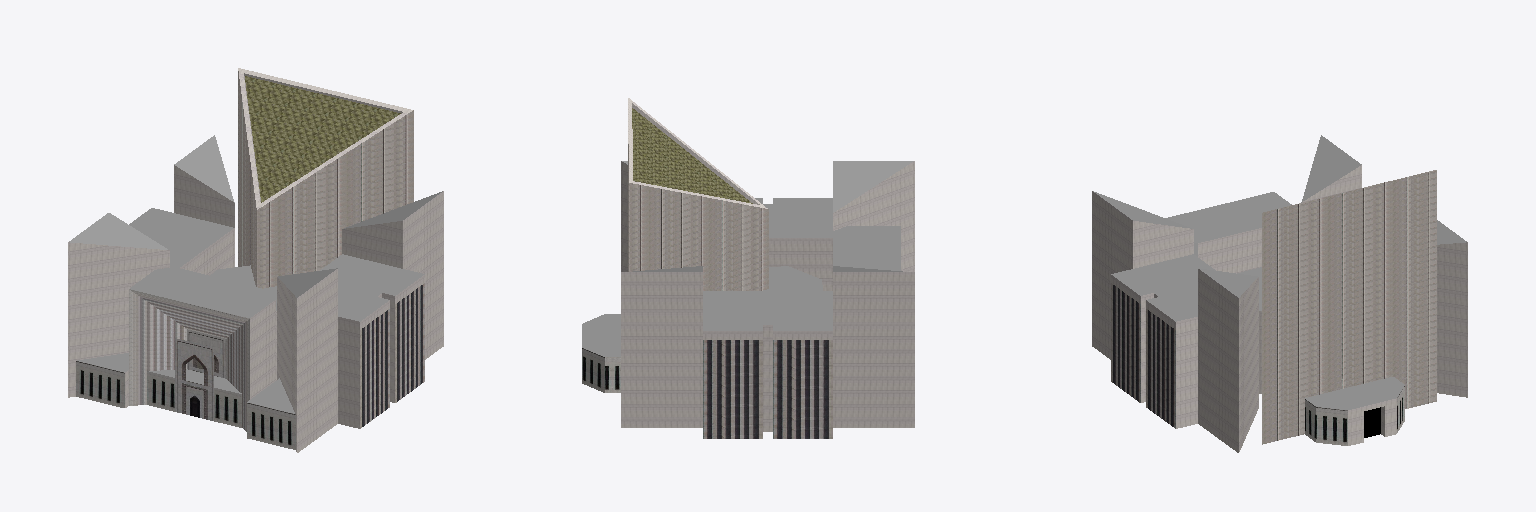
3 views of the same model, side by side, from view 1: azimuth 30°, elevation 25°; view 2: azimuth 150°, elevation 25°; view 3: azimuth 270°, elevation 25° (orthographic).
Visible parts, largest first — view 1: Mesh11 Component_6_1 Component_7_1 Model, Mesh4 Component_3_1 Component_7_1 Model, Mesh9 Component_2_2 Component_7_1 Model, Mesh6 Component_1_2 Component_7_1 Model, Mesh1 Component_1_1 Component_7_1 Model, Mesh7 Component_1_3 Component_7_1 Model, Mesh5 Component_2_1 Component_7_1 Model, Mesh10 Component_1_4 Component_7_1 Model, Mesh3 Component_5_1 Component_7_1 Model, Mesh8 Component_5_2 Component_7_1 Model, Mesh2 Component_4_1 Component_7_1 Model; view 2: Mesh11 Component_6_1 Component_7_1 Model, Mesh5 Component_2_1 Component_7_1 Model, Mesh6 Component_1_2 Component_7_1 Model, Mesh10 Component_1_4 Component_7_1 Model, Mesh1 Component_1_1 Component_7_1 Model, Mesh9 Component_2_2 Component_7_1 Model, Mesh4 Component_3_1 Component_7_1 Model, Mesh2 Component_4_1 Component_7_1 Model, Mesh7 Component_1_3 Component_7_1 Model; view 3: Mesh11 Component_6_1 Component_7_1 Model, Mesh9 Component_2_2 Component_7_1 Model, Mesh7 Component_1_3 Component_7_1 Model, Mesh1 Component_1_1 Component_7_1 Model, Mesh10 Component_1_4 Component_7_1 Model, Mesh4 Component_3_1 Component_7_1 Model, Mesh6 Component_1_2 Component_7_1 Model.
Boxes of the visible parts, x1=… form: Mesh11 Component_6_1 Component_7_1 Model: x1=238, y1=68, x2=413, y2=288; Mesh4 Component_3_1 Component_7_1 Model: x1=129, y1=267, x2=275, y2=431; Mesh9 Component_2_2 Component_7_1 Model: x1=320, y1=254, x2=424, y2=428; Mesh6 Component_1_2 Component_7_1 Model: x1=68, y1=213, x2=169, y2=397; Mesh1 Component_1_1 Component_7_1 Model: x1=277, y1=268, x2=337, y2=452; Mesh7 Component_1_3 Component_7_1 Model: x1=342, y1=191, x2=443, y2=359; Mesh5 Component_2_1 Component_7_1 Model: x1=129, y1=208, x2=234, y2=275; Mesh10 Component_1_4 Component_7_1 Model: x1=174, y1=135, x2=234, y2=227; Mesh3 Component_5_1 Component_7_1 Model: x1=247, y1=378, x2=295, y2=449; Mesh8 Component_5_2 Component_7_1 Model: x1=76, y1=353, x2=128, y2=407; Mesh2 Component_4_1 Component_7_1 Model: x1=210, y1=265, x2=276, y2=380; Mesh11 Component_6_1 Component_7_1 Model: x1=582, y1=98, x2=768, y2=392; Mesh5 Component_2_1 Component_7_1 Model: x1=703, y1=291, x2=832, y2=438; Mesh6 Component_1_2 Component_7_1 Model: x1=833, y1=266, x2=914, y2=427; Mesh10 Component_1_4 Component_7_1 Model: x1=621, y1=266, x2=702, y2=427; Mesh1 Component_1_1 Component_7_1 Model: x1=833, y1=161, x2=914, y2=271; Mesh9 Component_2_2 Component_7_1 Model: x1=755, y1=198, x2=832, y2=290; Mesh4 Component_3_1 Component_7_1 Model: x1=833, y1=226, x2=900, y2=270; Mesh2 Component_4_1 Component_7_1 Model: x1=763, y1=266, x2=822, y2=290; Mesh7 Component_1_3 Component_7_1 Model: x1=621, y1=161, x2=627, y2=271; Mesh11 Component_6_1 Component_7_1 Model: x1=1262, y1=170, x2=1436, y2=445; Mesh9 Component_2_2 Component_7_1 Model: x1=1111, y1=254, x2=1215, y2=428; Mesh7 Component_1_3 Component_7_1 Model: x1=1198, y1=268, x2=1258, y2=452; Mesh1 Component_1_1 Component_7_1 Model: x1=1092, y1=191, x2=1193, y2=359; Mesh10 Component_1_4 Component_7_1 Model: x1=1437, y1=220, x2=1467, y2=397; Mesh4 Component_3_1 Component_7_1 Model: x1=1166, y1=192, x2=1291, y2=273; Mesh6 Component_1_2 Component_7_1 Model: x1=1301, y1=135, x2=1361, y2=202.
Size of the model in its own units: 2905 by 1923 by 2825.
11 materials, 8 textured.